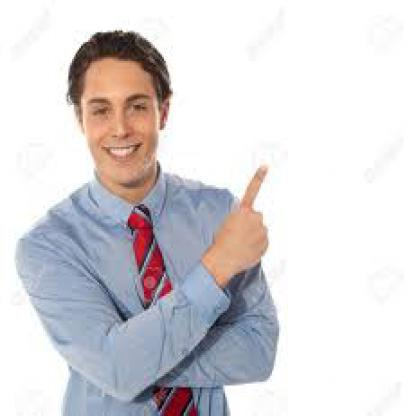Up: (200, 150, 290, 308)
